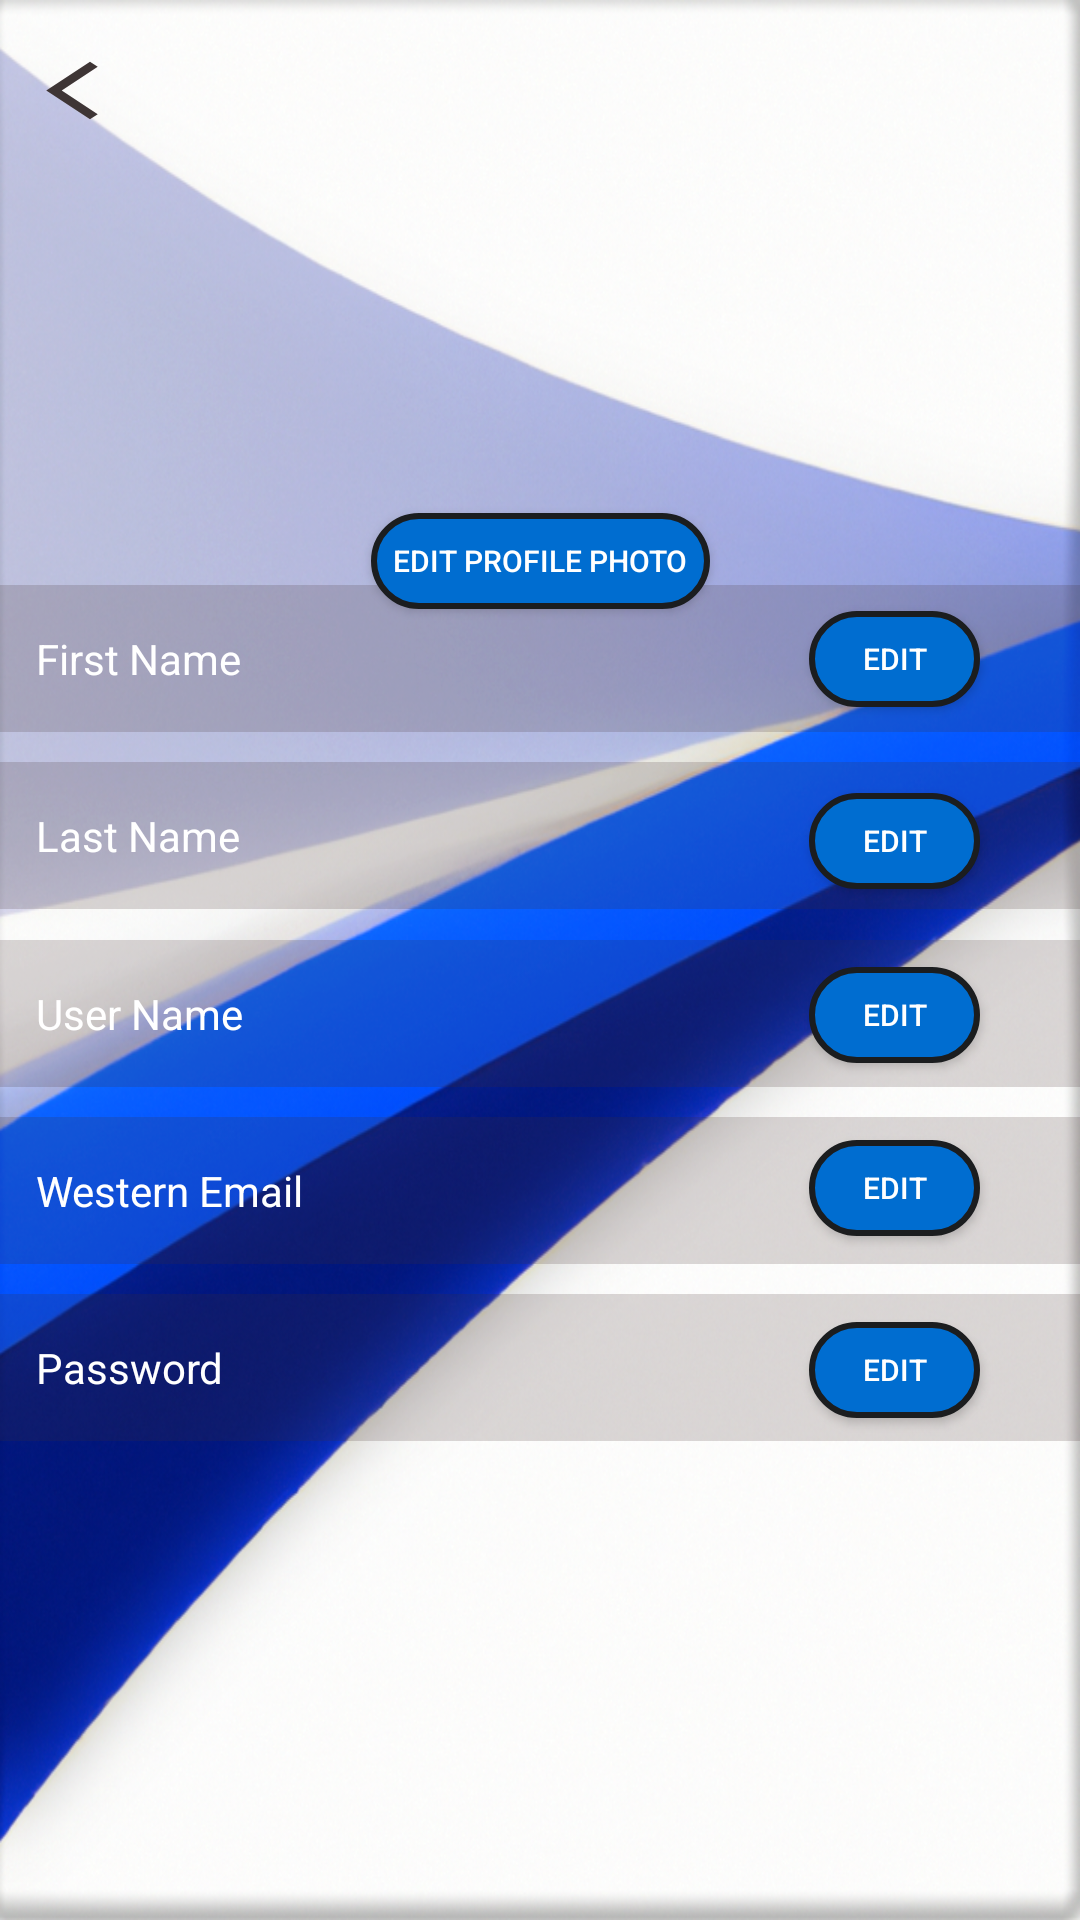

Icons on this 1080×1920 Android screen, each with the point to tap as (x,y):
arrow back: (72,90)
